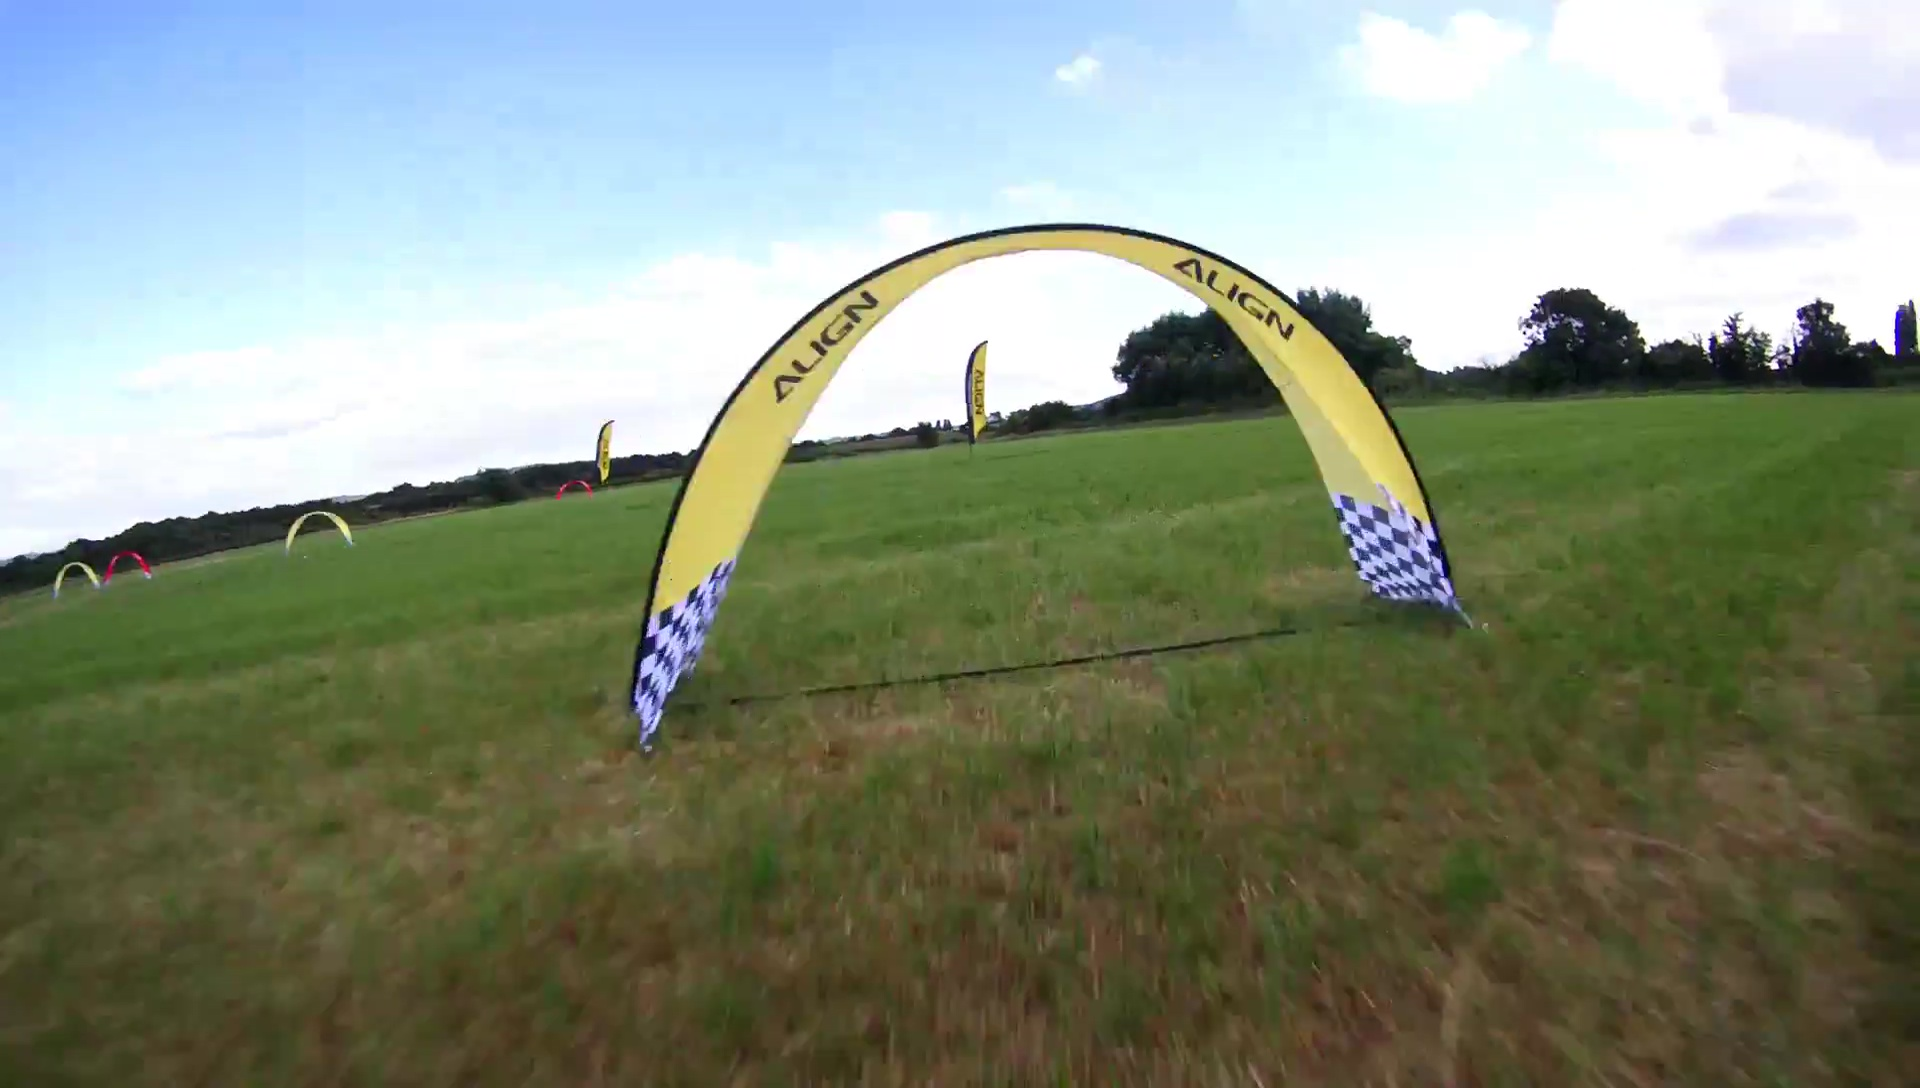gate: (632, 219, 1472, 745), (281, 506, 360, 554), (100, 550, 152, 589), (53, 559, 100, 600), (556, 477, 595, 502)
